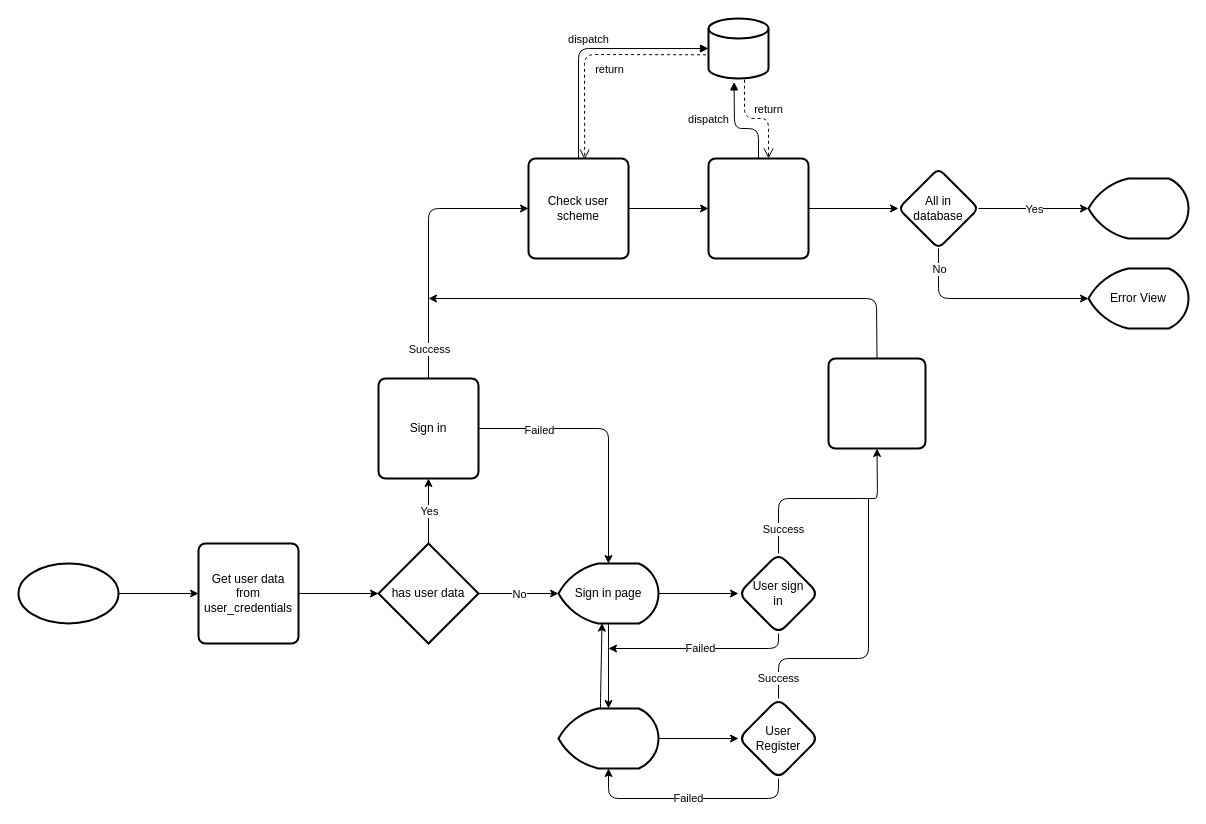
The diagram is 1206 pixels wide and 824 high, and some of its shapes have lost their labels. The shapes that lost their labels are listed below. From the top down, each one's centre as x and y in pixels, then its label:
At pixel 758 208: "Check user tables".
At pixel 1138 208: "Main View".
At pixel 876 403: "Save user credentials to user_credentials".
At pixel 68 593: "Start".
At pixel 608 738: "Register page".
